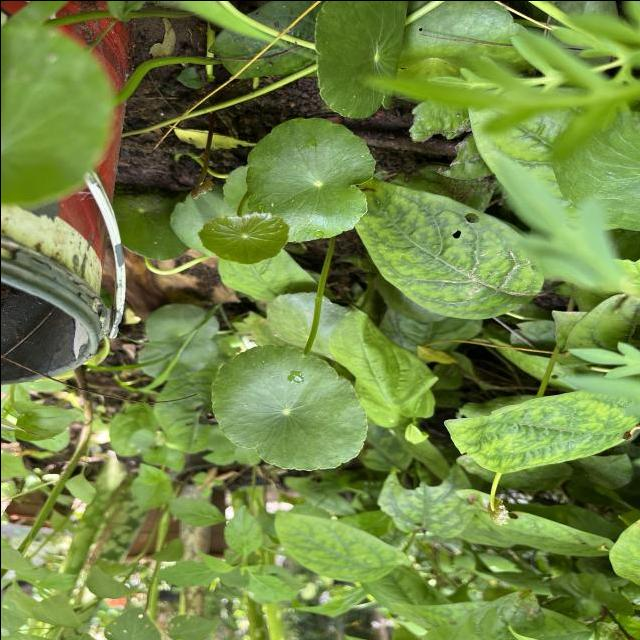Bacopa monnieri: (208, 342, 370, 472), (242, 148, 376, 244), (194, 210, 290, 266)
